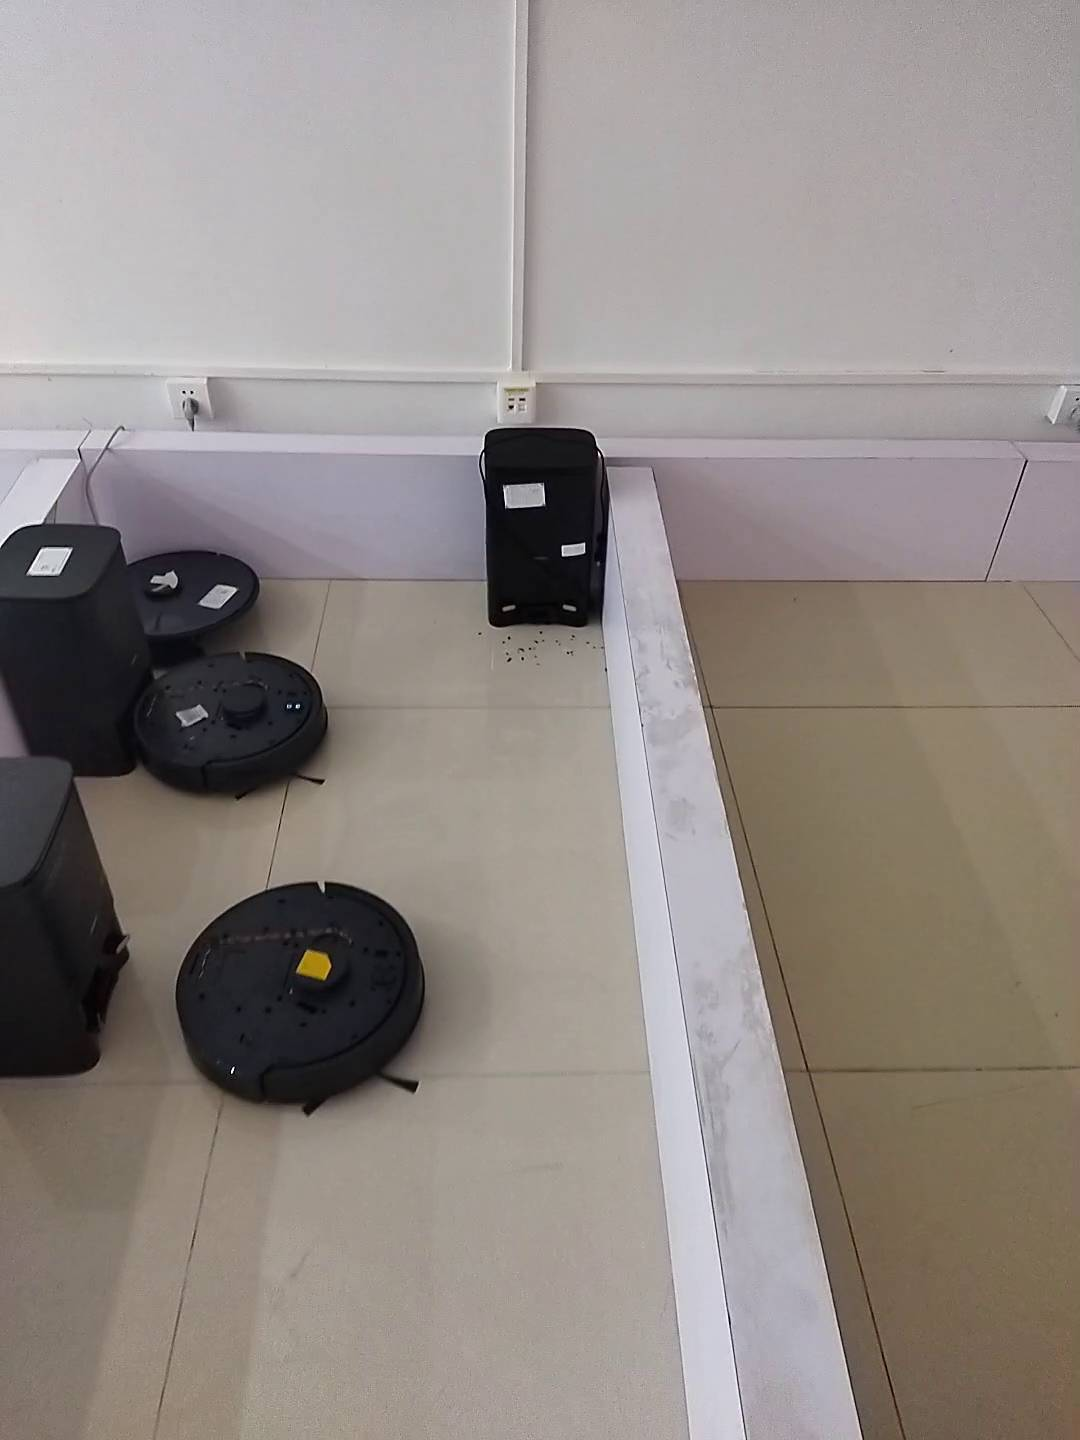dust collecting barrel: (1, 753, 128, 1086), (2, 520, 159, 776), (480, 425, 608, 628)
